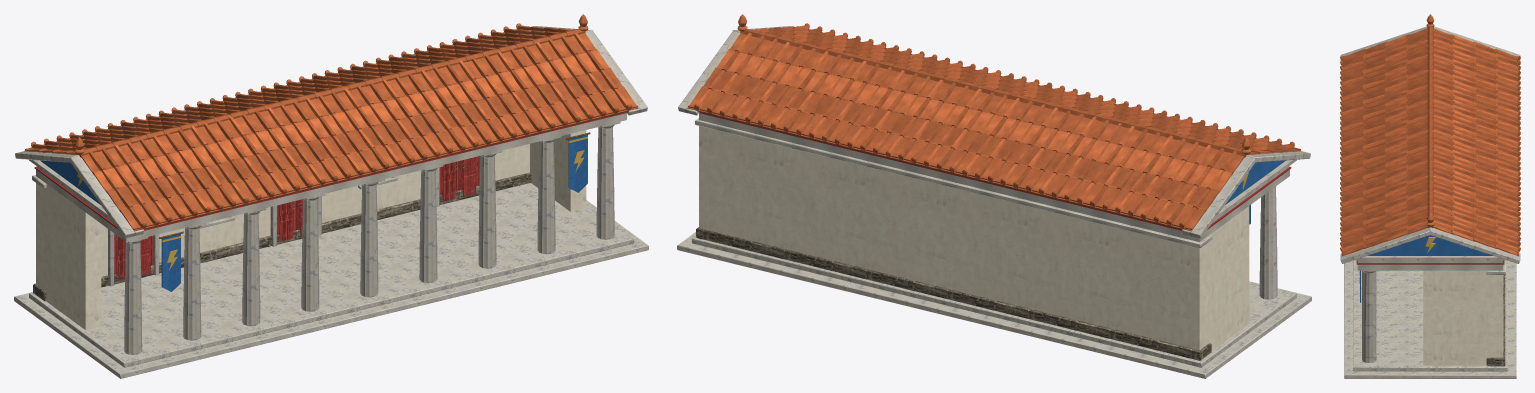
The model's file is civic_stoa.glb.
The picture shows the model from 3 angles, left to right: view 1: azimuth 30°, elevation 25°; view 2: azimuth 150°, elevation 25°; view 3: azimuth 270°, elevation 25°; orthographic projection. The views are drawn at different scales.
Visible parts, largest first — view 1: step, marble, terracotta0, terracotta1, terracotta2, cream, red_wood, stone_dark, terracotta, cloth_azure, paint_red, paint_azure; view 2: cream, terracotta0, terracotta1, terracotta2, marble, step, stone_dark, terracotta, paint_red, paint_azure; view 3: terracotta0, terracotta1, terracotta2, step, cream, marble, paint_azure, terracotta, stone_dark, paint_red.
Part boxes in pixels (bbox=[...]): step: bbox=[14, 183, 648, 378]; marble: bbox=[15, 26, 647, 354]; terracotta0: bbox=[24, 26, 638, 231]; terracotta1: bbox=[25, 26, 637, 229]; terracotta2: bbox=[39, 25, 631, 222]; cream: bbox=[36, 130, 586, 330]; red_wood: bbox=[114, 156, 478, 284]; stone_dark: bbox=[33, 172, 531, 301]; terracotta: bbox=[31, 14, 631, 227]; cloth_azure: bbox=[161, 134, 587, 291]; paint_red: bbox=[34, 112, 626, 230]; paint_azure: bbox=[40, 160, 100, 204]; cream: bbox=[699, 126, 1249, 350]; terracotta0: bbox=[687, 26, 1301, 231]; terracotta1: bbox=[688, 26, 1300, 229]; terracotta2: bbox=[694, 25, 1286, 222]; marble: bbox=[678, 26, 1310, 299]; step: bbox=[677, 232, 1311, 378]; stone_dark: bbox=[696, 227, 1211, 360]; terracotta: bbox=[694, 14, 1294, 227]; paint_red: bbox=[699, 112, 1291, 230]; paint_azure: bbox=[1225, 160, 1285, 204]; terracotta0: bbox=[1341, 28, 1519, 256]; terracotta1: bbox=[1341, 27, 1519, 255]; terracotta2: bbox=[1341, 34, 1519, 252]; step: bbox=[1344, 260, 1516, 378]; cream: bbox=[1423, 270, 1503, 365]; marble: bbox=[1340, 26, 1520, 363]; paint_azure: bbox=[1368, 235, 1492, 255]; terracotta: bbox=[1340, 14, 1520, 251]; stone_dark: bbox=[1486, 275, 1505, 366]; paint_red: bbox=[1356, 260, 1504, 264].
Bounding box in the file's own units: 16.9 × 6.12 × 6.2.
16 materials, 14 textured.
